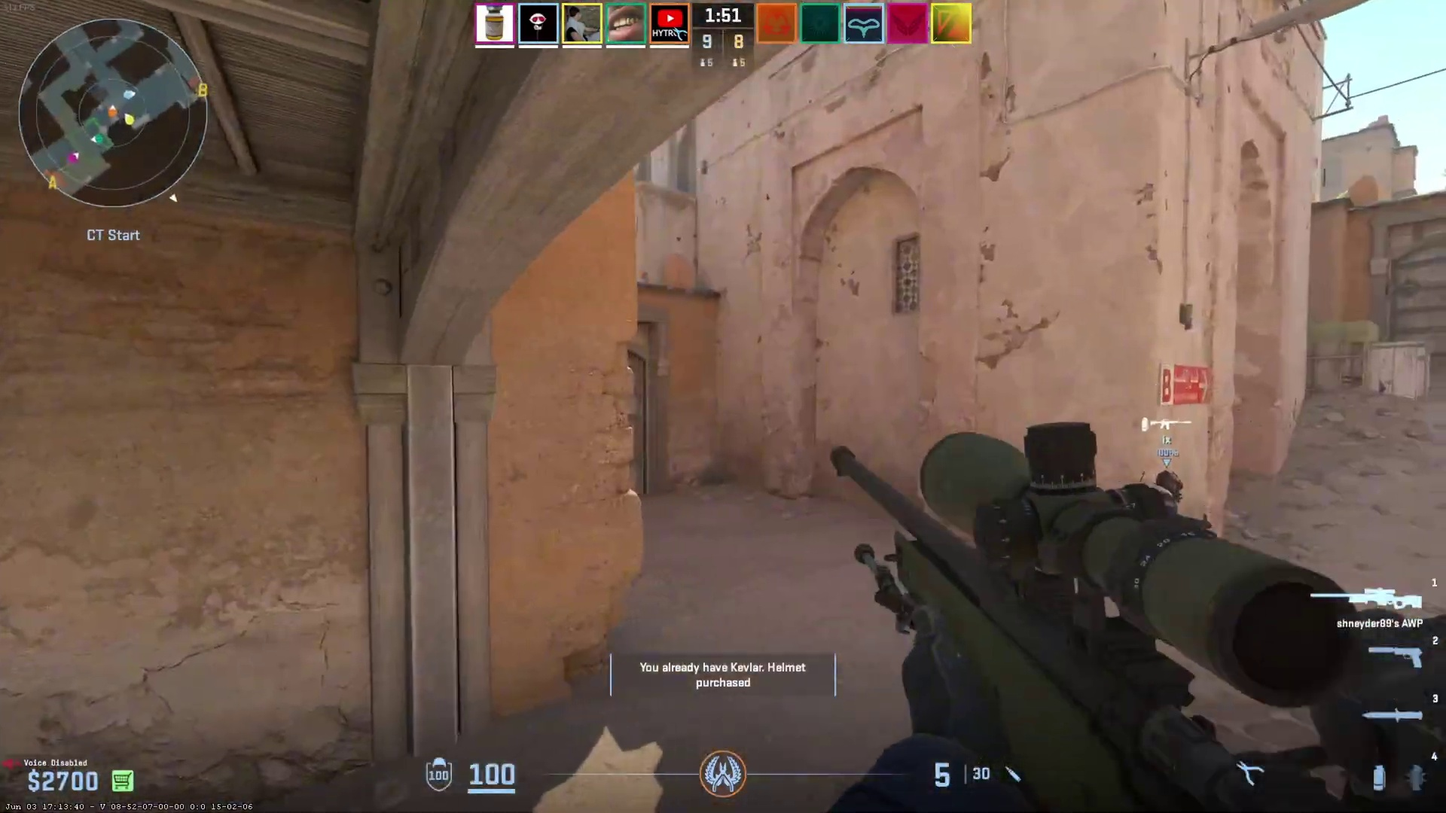CT: (1149, 470, 1187, 517)
